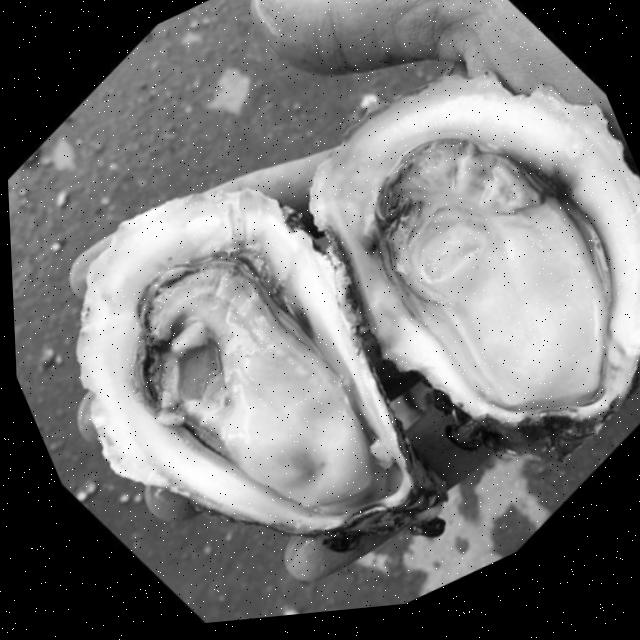Oyster-Open: (22, 131, 442, 639), (278, 8, 640, 526)
